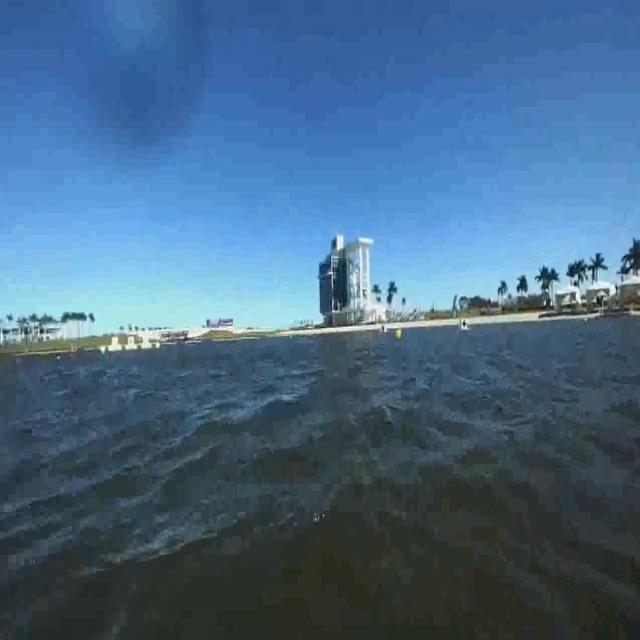yellow-buoy: (395, 326, 403, 341)
